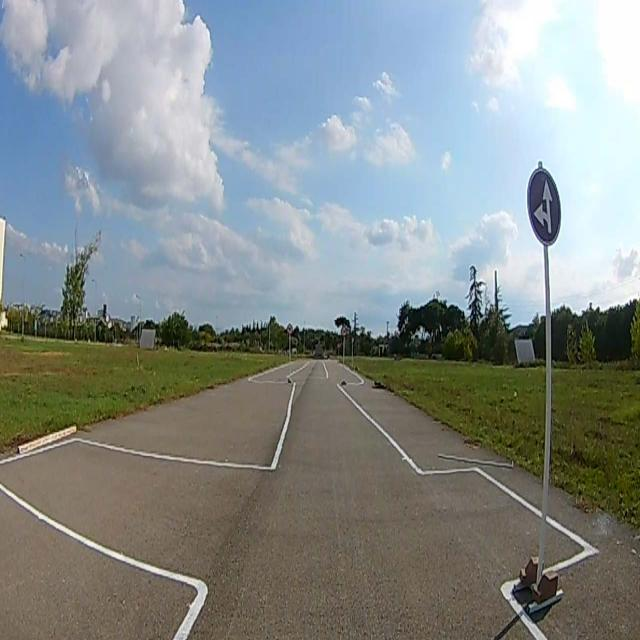ilerisol: (529, 169, 561, 243)
